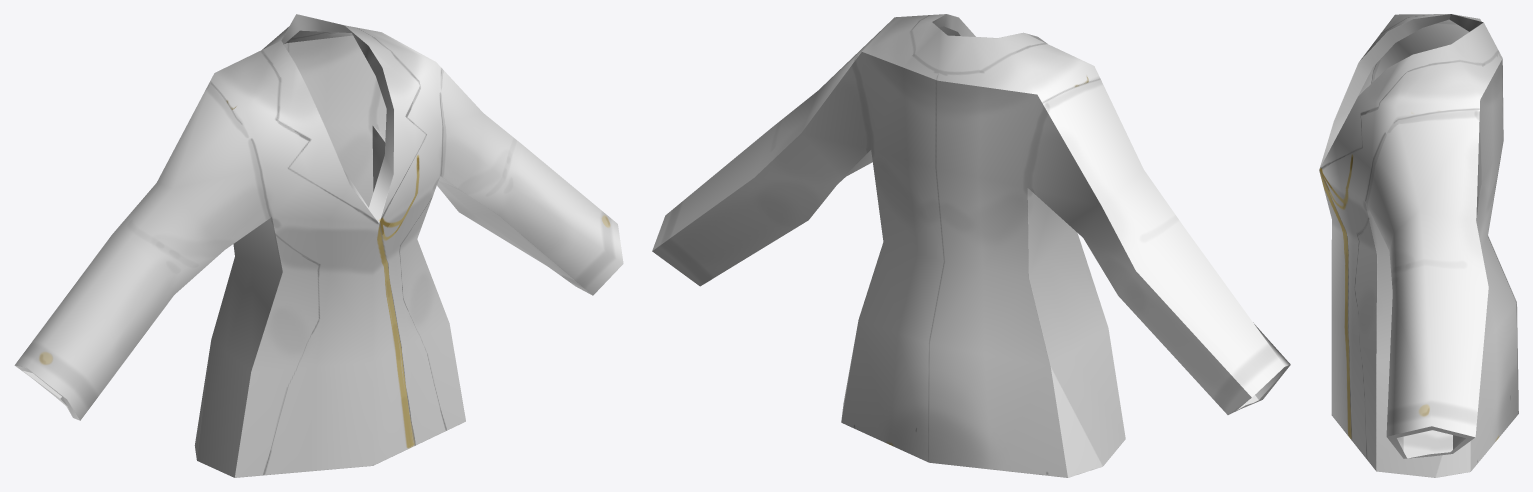
The model's file is cloth.FBX.
The picture shows the model from 3 angles, left to right: view 1: azimuth 30°, elevation 25°; view 2: azimuth 150°, elevation 25°; view 3: azimuth 270°, elevation 25°; orthographic projection. The views are drawn at different scales.
Parts seen in each view (by area): view 1: Box003; view 2: Box003; view 3: Box003.
Boxes of the visible parts, <box> form: Box003: <box>14,14,623,477</box>; Box003: <box>652,14,1290,477</box>; Box003: <box>1319,14,1518,477</box>.
Size of the model in its own units: 74.93 by 48.52 by 22.11.
1 material, 1 textured.
